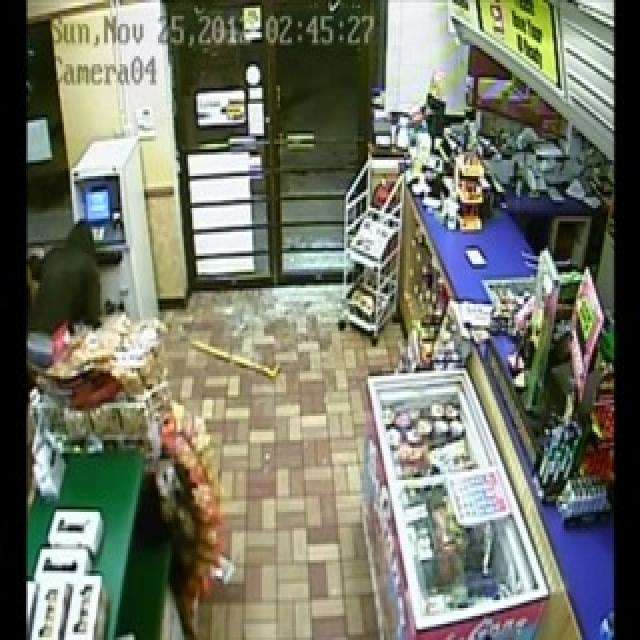thief: (32, 209, 105, 332)
